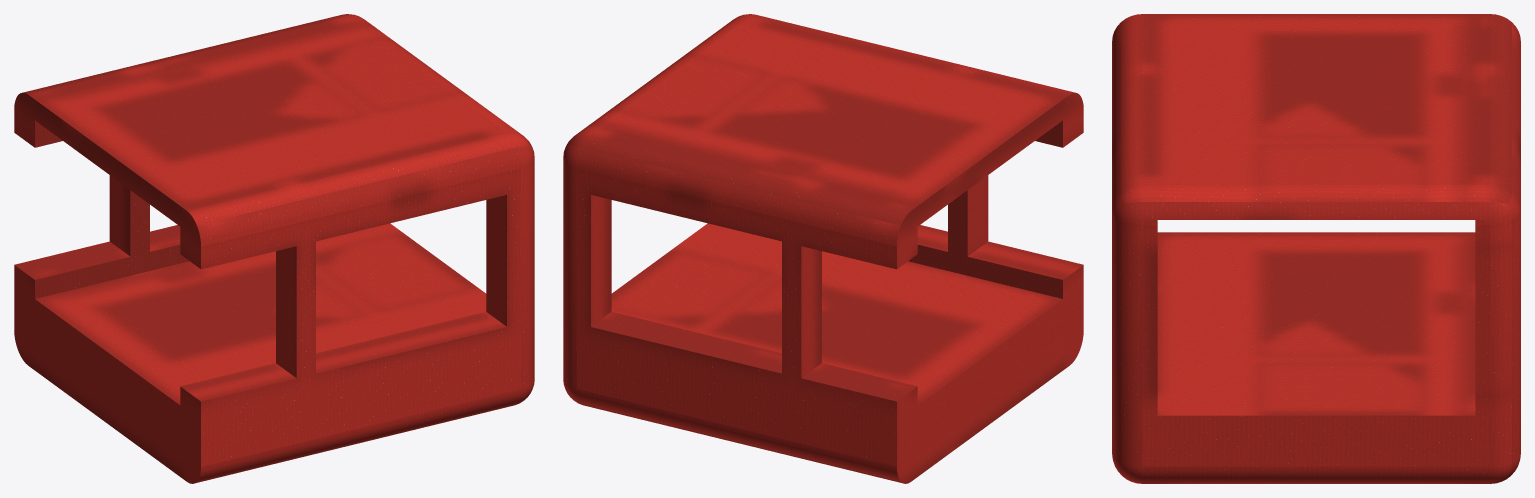
The model's file is 18-rounded-red-lunch-tin-half-2.fbx.
The picture shows the model from 3 angles, left to right: view 1: azimuth 30°, elevation 25°; view 2: azimuth 150°, elevation 25°; view 3: azimuth 270°, elevation 25°; orthographic projection. The views are drawn at different scales.
Parts seen in each view (by area): view 1: rounded-red-lunch-tin-half-2; view 2: rounded-red-lunch-tin-half-2; view 3: rounded-red-lunch-tin-half-2.
Part boxes in pixels (x1=…): rounded-red-lunch-tin-half-2: x1=14, y1=14, x2=534, y2=483; rounded-red-lunch-tin-half-2: x1=563, y1=14, x2=1083, y2=483; rounded-red-lunch-tin-half-2: x1=1112, y1=14, x2=1520, y2=483.
Size of the model in its own units: 8500 by 6400 by 8000.
1 material, 1 textured.
